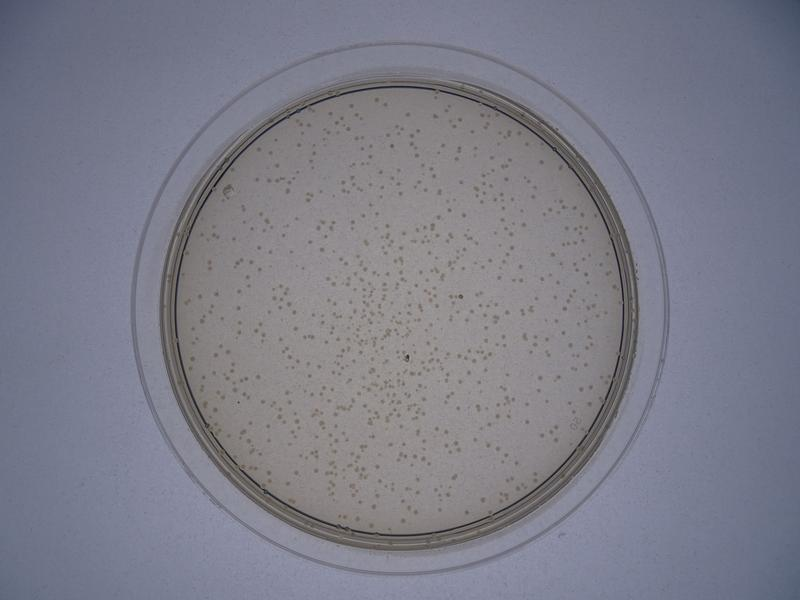colony: (395, 186, 408, 201), (381, 126, 396, 139), (313, 244, 329, 256), (432, 503, 446, 516), (400, 106, 413, 119), (501, 172, 513, 186), (264, 246, 279, 257), (454, 174, 466, 187), (290, 321, 302, 334), (451, 402, 464, 414), (381, 219, 393, 232), (495, 212, 508, 224), (527, 190, 541, 201), (209, 349, 223, 360), (501, 306, 515, 317), (289, 212, 303, 223), (375, 190, 389, 201), (493, 238, 505, 250), (283, 185, 296, 196), (304, 370, 315, 383), (559, 220, 570, 233), (369, 207, 383, 217), (450, 152, 462, 163), (458, 209, 469, 221), (493, 273, 505, 284), (535, 271, 546, 283), (522, 415, 533, 427), (283, 396, 295, 407), (503, 370, 515, 381), (255, 207, 266, 219), (373, 460, 384, 472), (223, 345, 235, 356), (552, 435, 563, 447), (455, 376, 465, 389), (283, 246, 296, 256), (375, 166, 386, 177), (254, 264, 265, 275), (413, 486, 424, 497), (232, 286, 244, 296), (493, 442, 503, 454), (469, 434, 481, 444), (263, 436, 275, 446), (509, 239, 519, 251), (547, 249, 560, 258), (532, 290, 541, 303), (368, 503, 381, 512), (576, 381, 585, 394), (319, 232, 332, 241), (519, 219, 529, 230), (444, 205, 454, 216), (303, 235, 313, 246), (558, 328, 569, 338), (462, 505, 472, 516), (352, 513, 363, 523), (256, 396, 267, 406), (523, 399, 534, 409), (565, 338, 576, 348), (542, 396, 552, 407), (484, 254, 494, 265), (581, 358, 591, 369), (311, 465, 322, 475), (261, 421, 273, 430), (479, 364, 491, 373), (388, 140, 397, 152), (278, 230, 288, 240), (516, 259, 526, 269), (290, 306, 300, 316), (398, 516, 408, 526), (282, 386, 292, 396), (534, 385, 544, 395), (530, 339, 540, 349), (329, 279, 339, 289), (254, 242, 263, 253), (233, 301, 242, 312), (534, 372, 543, 383), (536, 431, 547, 440), (292, 467, 302, 476), (253, 371, 263, 380), (432, 423, 442, 432), (314, 361, 324, 370), (459, 263, 467, 274), (463, 368, 474, 376), (476, 199, 487, 207), (482, 336, 491, 345), (475, 377, 484, 386)
